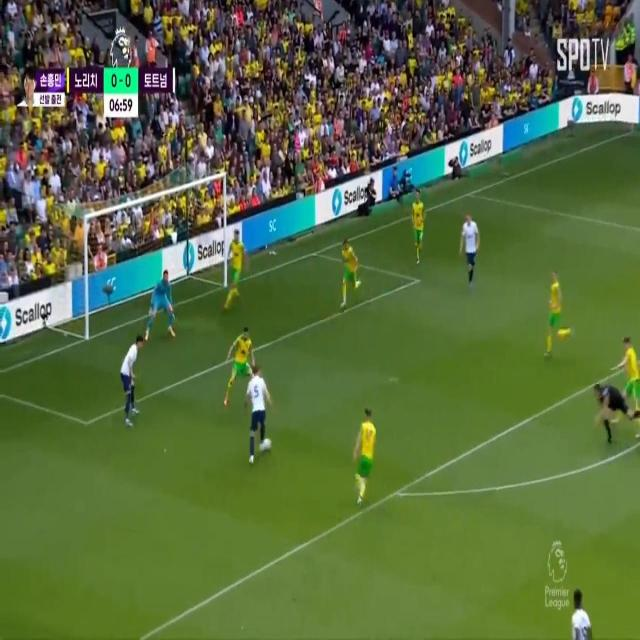ball: (621, 332, 640, 437), (264, 428, 272, 458)
player: (249, 362, 271, 460), (356, 408, 376, 506), (118, 334, 142, 413), (546, 264, 564, 353), (410, 190, 430, 262), (225, 229, 243, 304), (342, 236, 360, 307), (232, 327, 252, 390), (569, 589, 592, 640), (462, 208, 478, 270)
referee: (594, 377, 640, 443)
